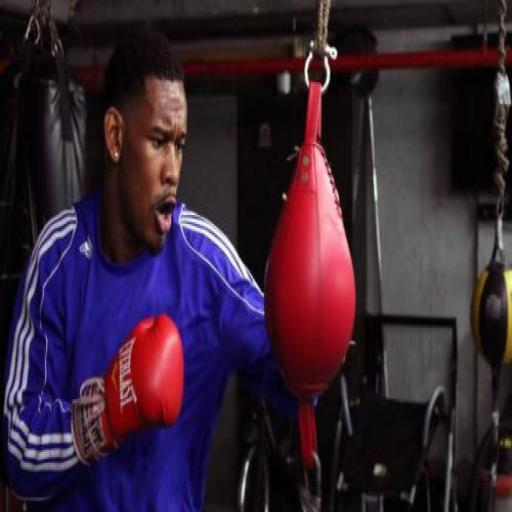boxing: (0, 43, 358, 512)
